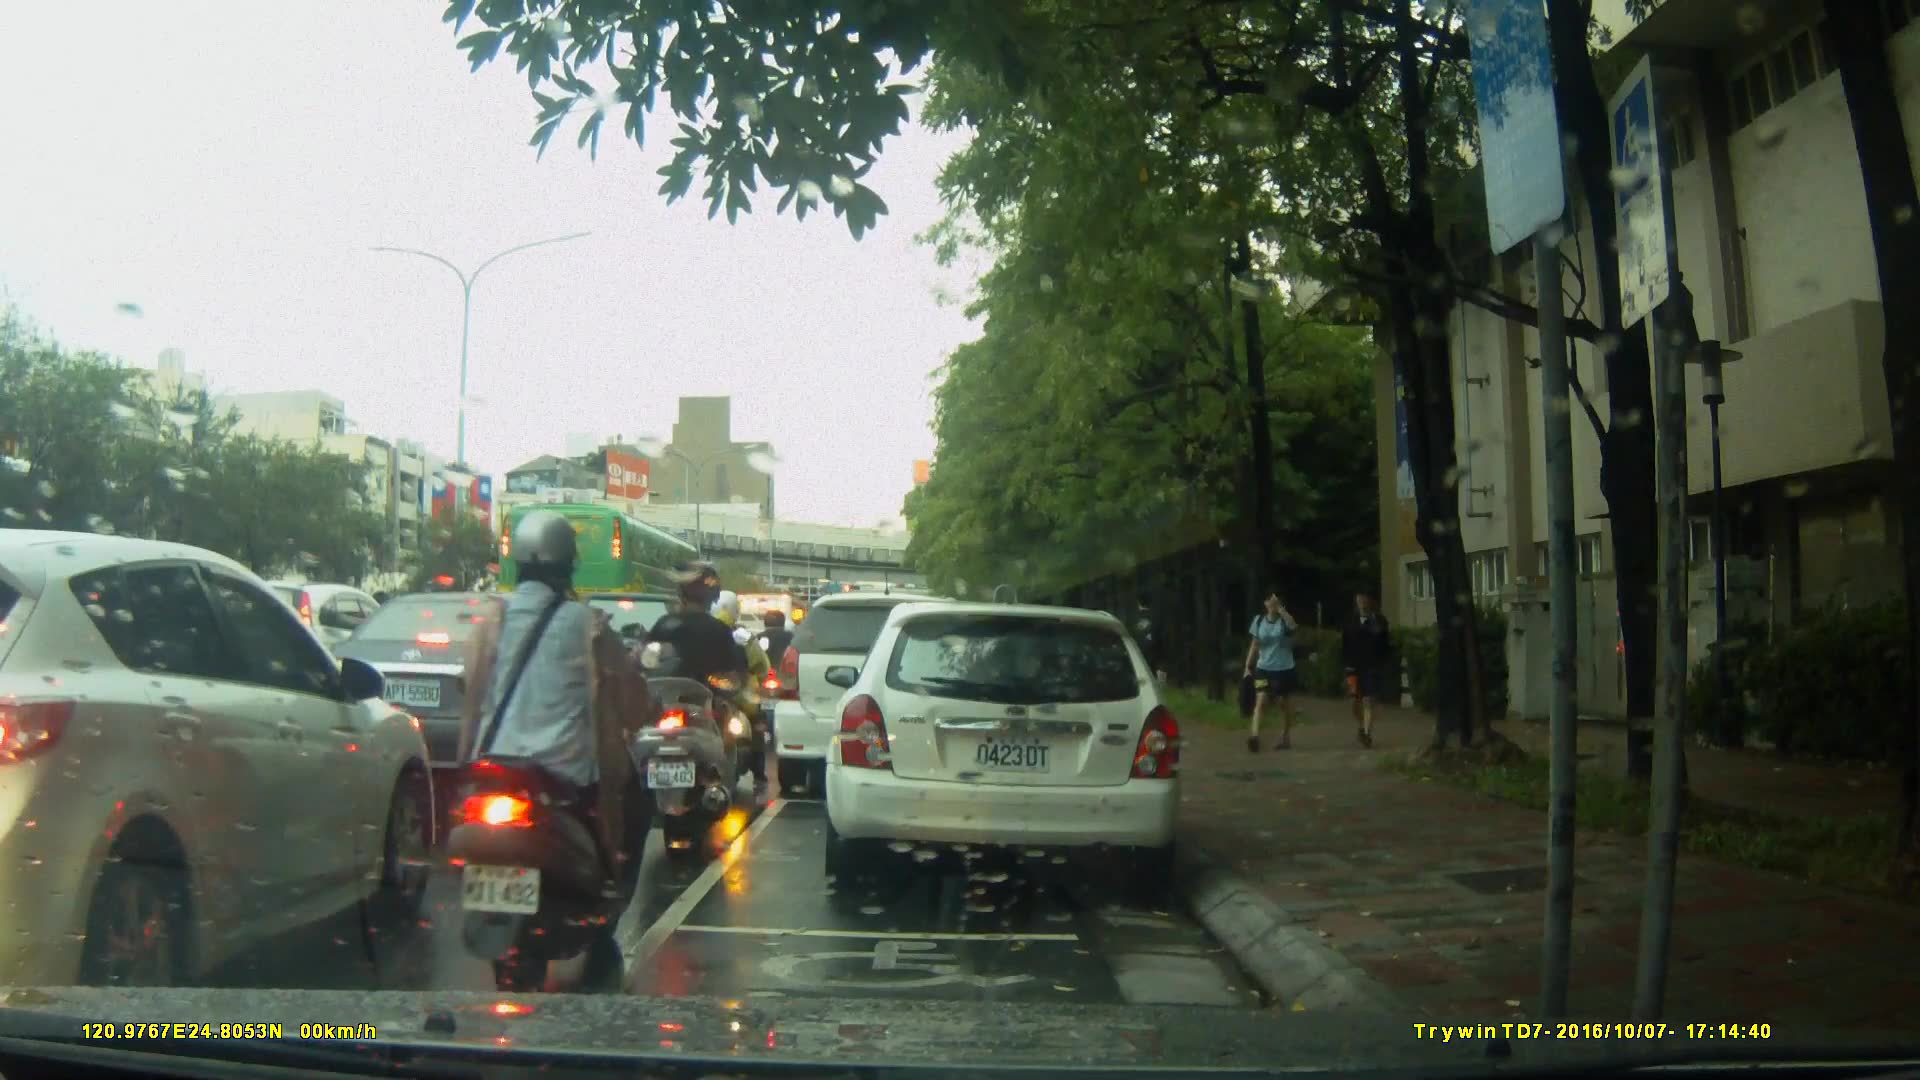pedestrian: (1217, 582, 1328, 757), (1336, 575, 1404, 761), (1123, 596, 1165, 733)
rider: (454, 511, 647, 994), (637, 565, 748, 850), (696, 586, 780, 783), (742, 609, 808, 761)
vehicle: (1, 528, 446, 987), (831, 592, 1196, 897), (312, 590, 641, 807), (770, 592, 999, 802), (495, 500, 707, 638)
